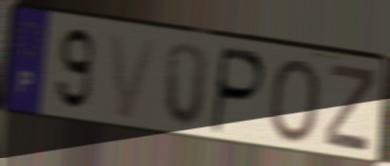0: (163, 41, 210, 131)
9: (52, 25, 98, 116)
O: (266, 57, 323, 146)
P: (208, 44, 268, 139)
V: (107, 30, 160, 123)
Z: (321, 61, 378, 157)
